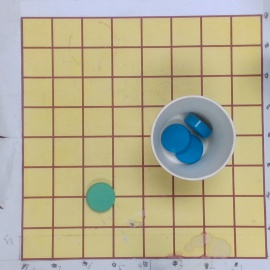blue: (151, 95, 236, 182)
green: (85, 183, 115, 212)
